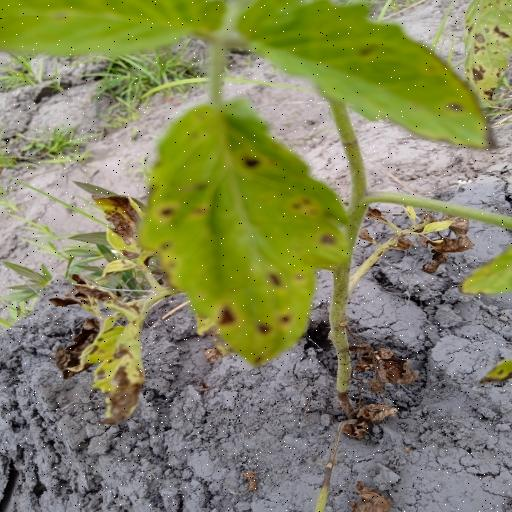Tomato_Brown_Spots: (132, 100, 354, 369), (226, 0, 502, 150)
